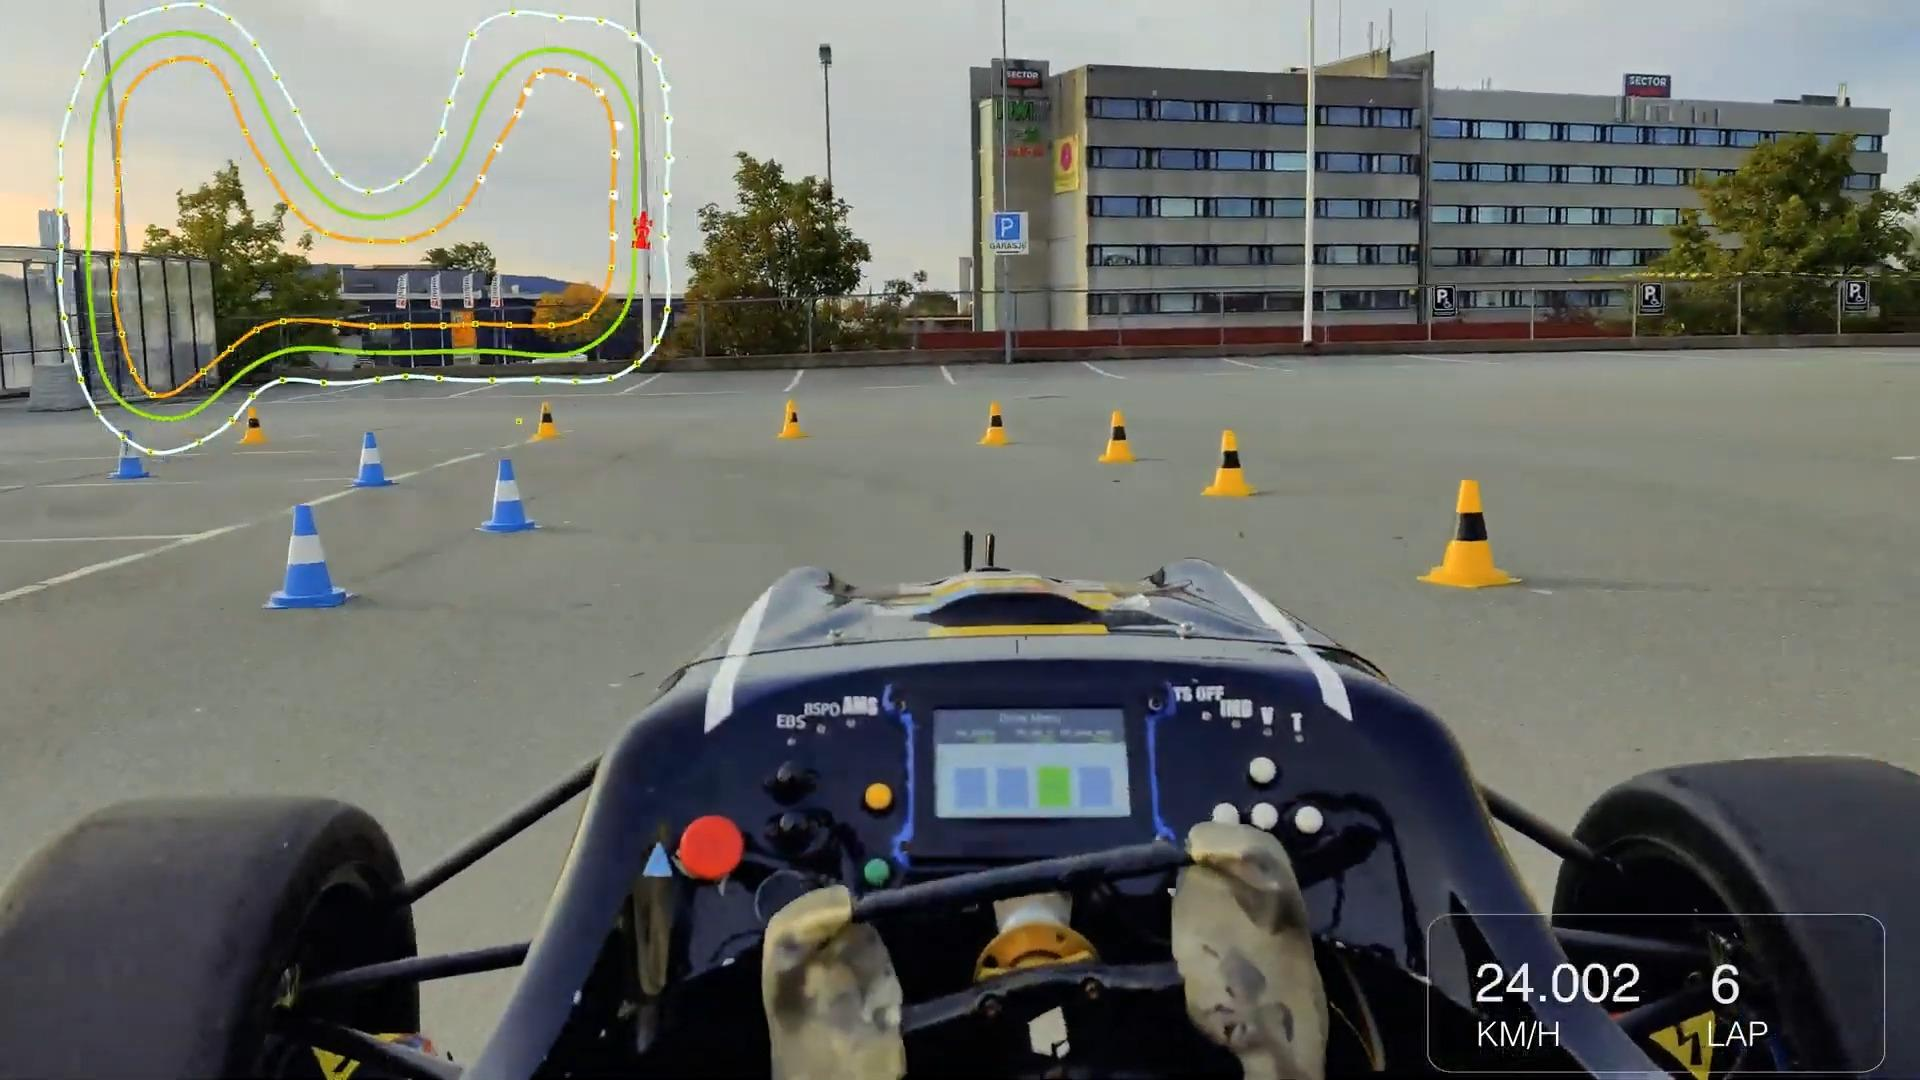blue_cone: (276, 503, 347, 608), (484, 458, 535, 532), (354, 433, 394, 487), (111, 430, 154, 480)
yellow_cone: (1426, 477, 1524, 590), (1201, 430, 1257, 498), (1099, 410, 1139, 465), (977, 398, 1017, 448), (241, 403, 267, 443), (781, 400, 805, 438), (536, 403, 557, 438)
